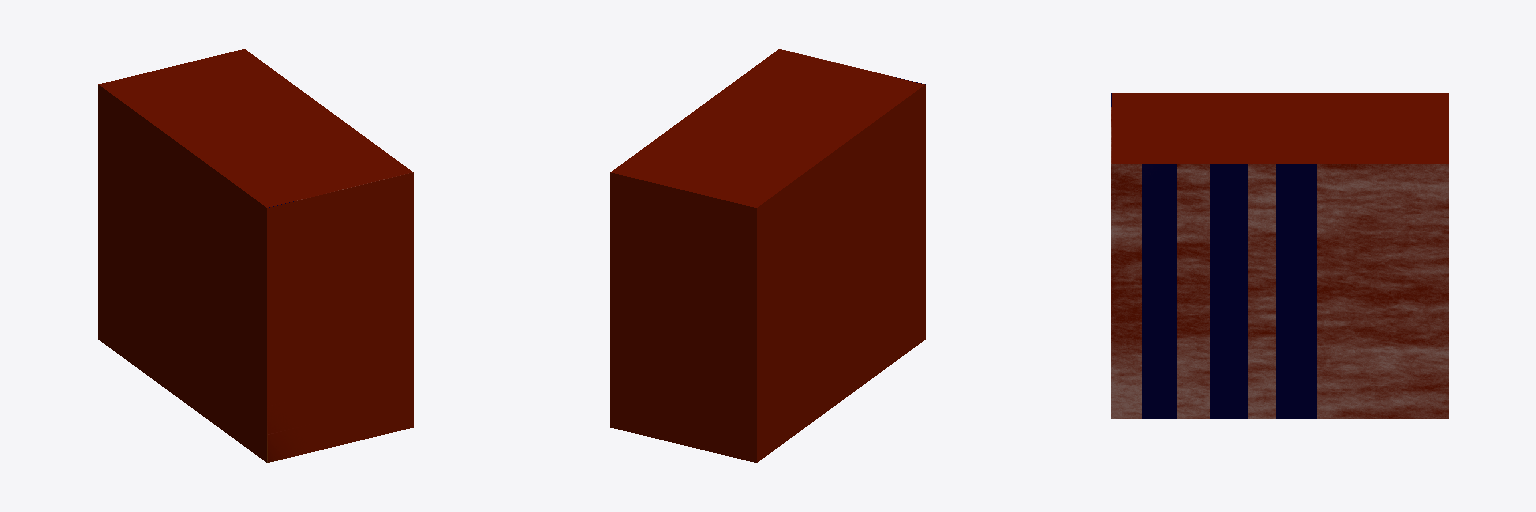
3 views of the same model, side by side, from view 1: azimuth 30°, elevation 25°; view 2: azimuth 150°, elevation 25°; view 3: azimuth 270°, elevation 25° (orthographic).
Visible parts, largest first — view 1: VierdeGebouwLinks; view 2: VierdeGebouwLinks; view 3: VierdeGebouwLinks.
Boxes of the visible parts, x1,y1,x2,y2 form: VierdeGebouwLinks: [98, 49, 413, 462]; VierdeGebouwLinks: [610, 49, 925, 462]; VierdeGebouwLinks: [1111, 93, 1448, 418].
Size of the model in its own units: 1181 by 1969 by 2362.
1 materials, 1 textured.